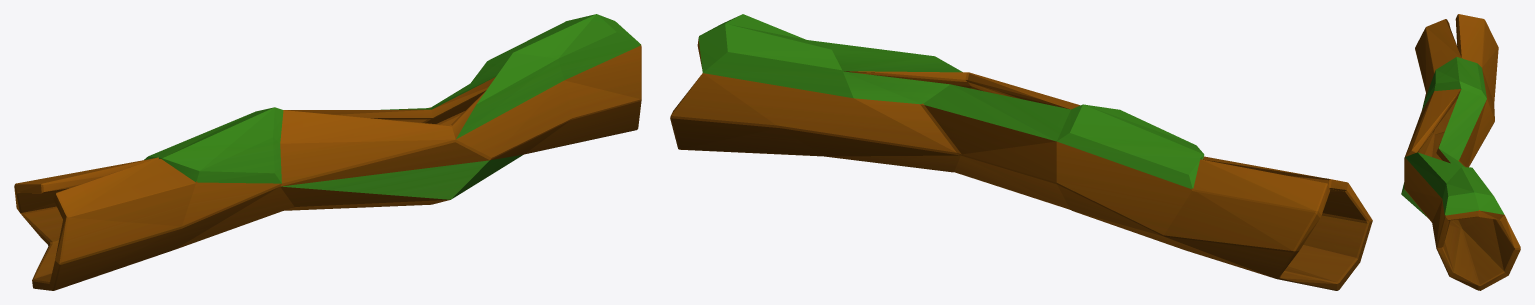
File: log_mossy.glb
3 views of the same model, side by side, from view 1: azimuth 30°, elevation 25°; view 2: azimuth 150°, elevation 25°; view 3: azimuth 270°, elevation 25° (orthographic). The views are drawn at different scales.
Visible parts, largest first — view 1: Wooden Log_1_5_A; view 2: Wooden Log_1_5_A; view 3: Wooden Log_1_5_A.
Boxes of the visible parts, <box> form: Wooden Log_1_5_A: <box>14,14,641,290</box>; Wooden Log_1_5_A: <box>670,14,1372,290</box>; Wooden Log_1_5_A: <box>1401,14,1520,290</box>.
Size of the model in its own units: 1.8 by 0.35 by 0.43.
1 material, 1 textured.
